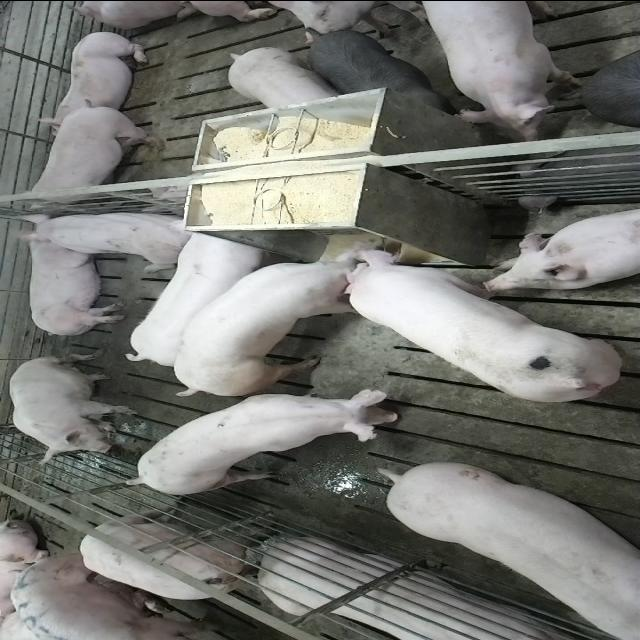Feeding: (338, 240, 625, 404), (170, 238, 384, 394)
Lateral_lying: (10, 212, 128, 338)
Sitting: (7, 354, 139, 467), (18, 206, 196, 266)
Standing: (383, 464, 639, 640), (128, 391, 408, 497), (414, 2, 582, 136), (125, 225, 277, 367), (0, 552, 239, 640), (76, 510, 280, 610), (21, 101, 167, 204), (303, 29, 455, 110), (228, 46, 340, 110)
Sternal_lying: (255, 539, 605, 640), (483, 205, 640, 291), (36, 28, 156, 124)
